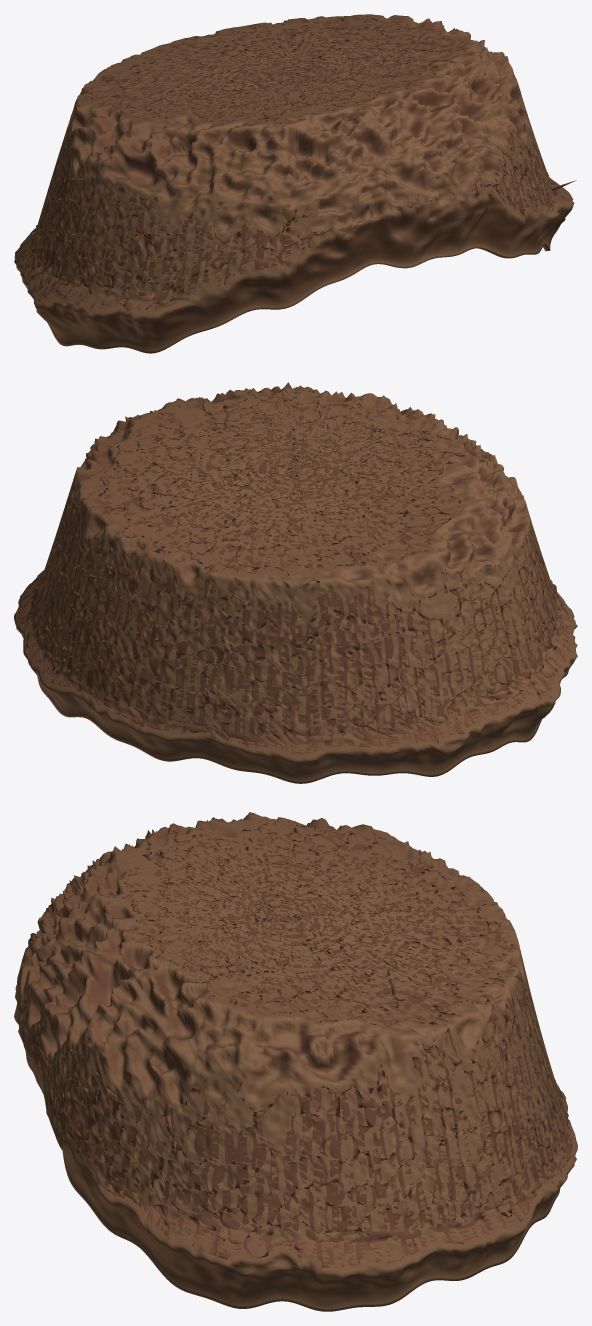
The model's file is Highlights-1712bc200eb3252-hair.glb.
3 views of the same model, one above another, from view 1: azimuth 30°, elevation 25°; view 2: azimuth 150°, elevation 25°; view 3: azimuth 270°, elevation 25° (orthographic). The views are drawn at different scales.
Parts seen in each view (by area): view 1: 226 hair / Hair252 / dense natural coil groups.001; view 2: 226 hair / Hair252 / dense natural coil groups.001; view 3: 226 hair / Hair252 / dense natural coil groups.001.
Boxes of the visible parts, x1,y1,x2,y2 form: 226 hair / Hair252 / dense natural coil groups.001: (14,14,576,353); 226 hair / Hair252 / dense natural coil groups.001: (14,382,577,783); 226 hair / Hair252 / dense natural coil groups.001: (14,812,577,1311).
Bounding box in the file's own units: 1.05 × 0.4575 × 0.8203.
1 material, 1 textured.
